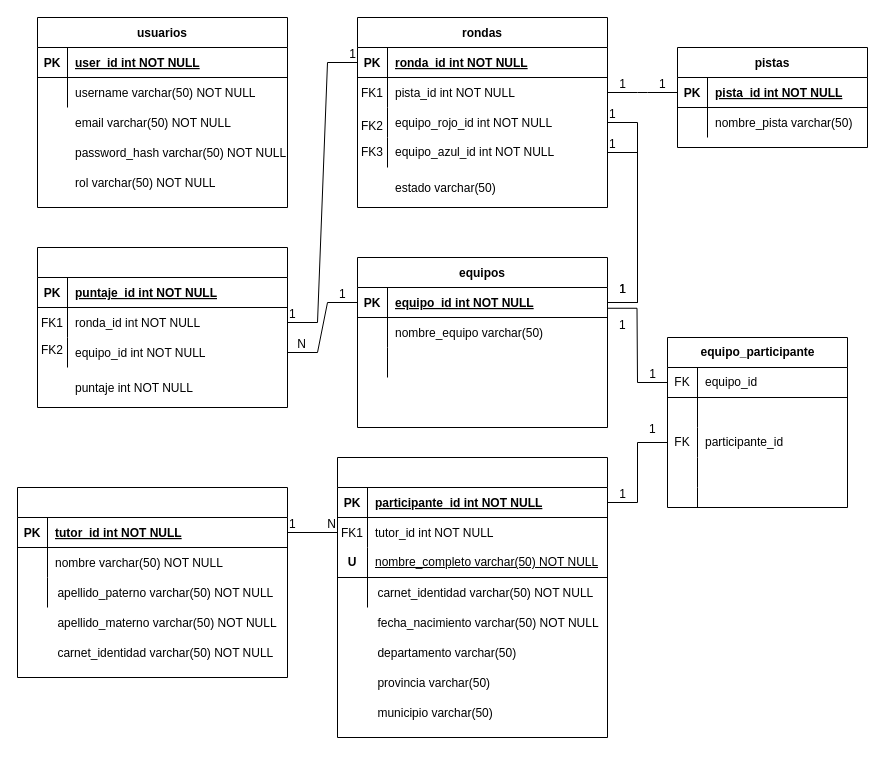
This 885x765 diagram has some shape labels left out. Here are the shapes that lost their labels. From the top down, the box of each, then its label:
(36, 246, 288, 408): puntajes
(16, 486, 288, 678): tutores
(336, 456, 608, 738): participantes
